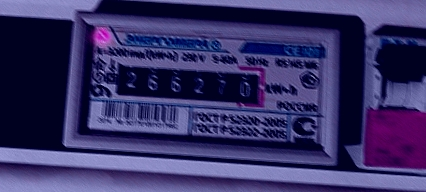0: (237, 77, 251, 95)
2: (123, 67, 137, 86), (192, 73, 204, 92)
6: (146, 70, 159, 89), (169, 72, 182, 91)
7: (215, 75, 227, 93)
screen: (105, 51, 271, 111)
